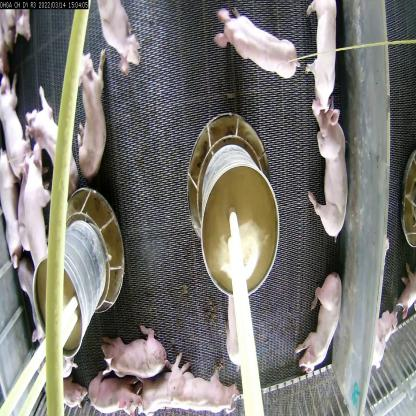Pig: (210, 5, 304, 99), (10, 150, 62, 281), (71, 38, 113, 198), (307, 92, 350, 240), (27, 88, 81, 198), (304, 271, 349, 388), (302, 3, 346, 112), (103, 310, 167, 384), (217, 286, 262, 375), (166, 360, 234, 416), (97, 0, 141, 78), (92, 378, 130, 416)
